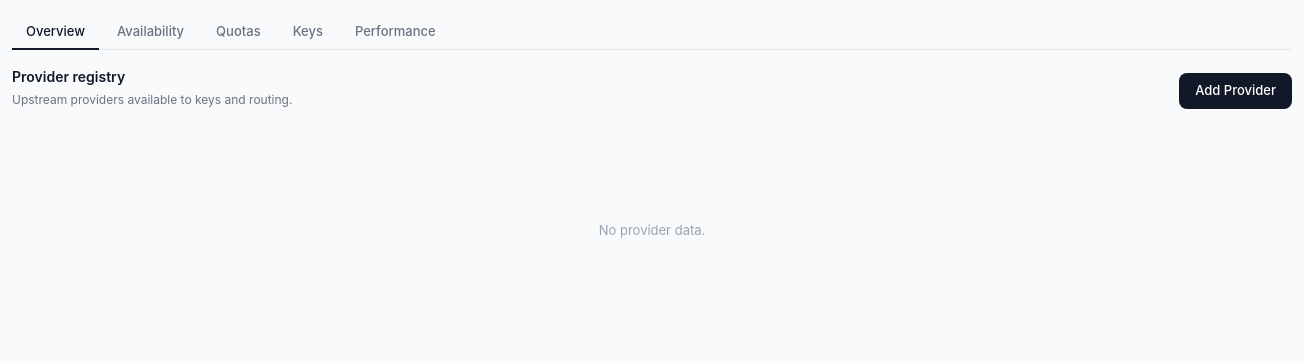
Test case: ProvidersTab quotas › renders every quota row when concurrency is first
This screenshot has width=1304, height=363.
Click the tab "Quotas".
click(238, 33)  # box [202,16,275,50]
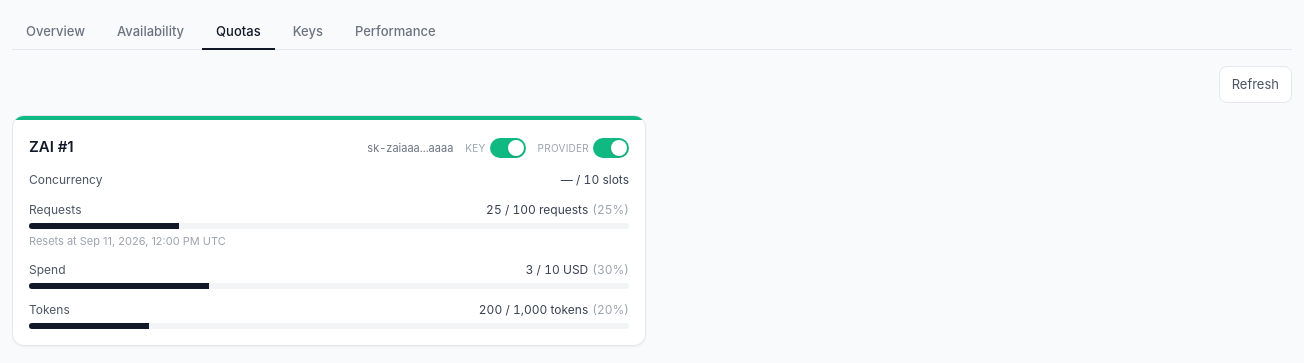
Check: the heading "ZAI #1" is shown, box [29,136,74,158]
Check: the text "— / 10 slots" is shown, box [561,170,629,188]
Check: the text "25 / 100 requests(25%)" is shown, box [486,200,629,218]
